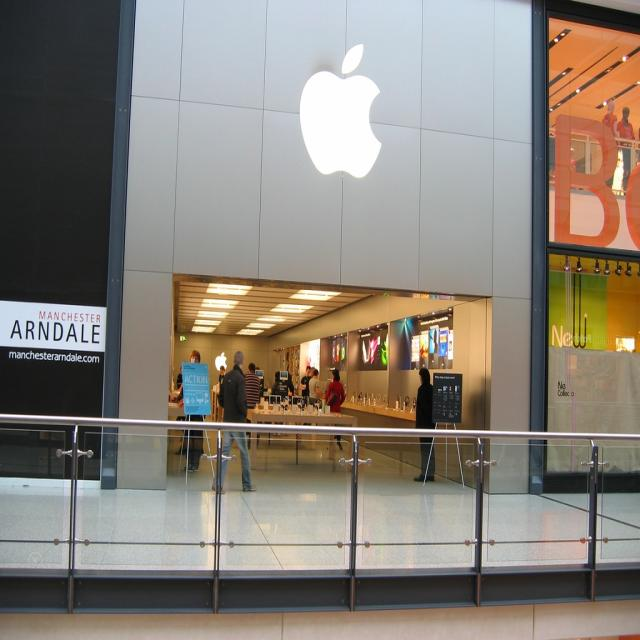apple: (296, 40, 387, 185)
